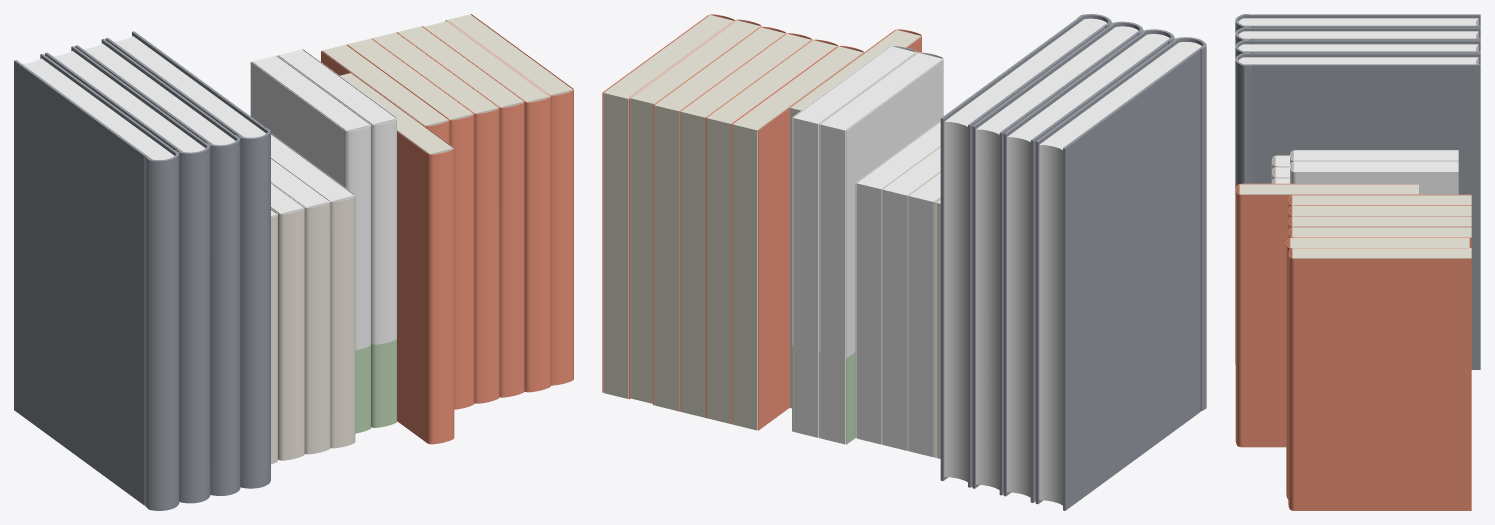
Rendered from 143_本の塊立てたタイプ.glb.
The picture shows the model from 3 angles, left to right: view 1: azimuth 30°, elevation 25°; view 2: azimuth 150°, elevation 25°; view 3: azimuth 270°, elevation 25°; orthographic projection. The views are drawn at different scales.
Parts seen in each view (by area): view 1: 137_本(閉)(ハードカバーサイズ)1, 141_本(閉)(漫画サイズ), 137_本(閉)(ハードカバーサイズ)2, 137_本(閉)(ハードカバーサイズ)4, 137_本(閉)(ハードカバーサイズ)3, 139_本(閉)(新書サイズ)1, 141_本(閉)(漫画サイズ)5, 139_本(閉)(新書サイズ)2, 141_本(閉)(漫画サイズ)3, 141_本(閉)(漫画サイズ)4, 141_本(閉)(漫画サイズ)6, 141_本(閉)(漫画サイズ)2 (+5 smaller); view 2: 137_本(閉)(ハードカバーサイズ)1, 141_本(閉)(漫画サイズ)1, 139_本(閉)(新書サイズ)1, 137_本(閉)(ハードカバーサイズ)2, 137_本(閉)(ハードカバーサイズ)4, 137_本(閉)(ハードカバーサイズ)3, 141_本(閉)(漫画サイズ)6, 139_本(閉)(新書サイズ)2, 141_本(閉)(漫画サイズ)3, 141_本(閉)(漫画サイズ)4, 141_本(閉)(漫画サイズ)2, 141_本(閉)(漫画サイズ)5 (+5 smaller); view 3: 141_本(閉)(漫画サイズ)6, 137_本(閉)(ハードカバーサイズ)4, 141_本(閉)(漫画サイズ), 139_本(閉)(新書サイズ)2, 137_本(閉)(ハードカバーサイズ)1, 137_本(閉)(ハードカバーサイズ)3, 137_本(閉)(ハードカバーサイズ)2, 141_本(閉)(漫画サイズ)5, 141_本(閉)(漫画サイズ)4, 141_本(閉)(漫画サイズ)1, 141_本(閉)(漫画サイズ)3, 141_本(閉)(漫画サイズ)2 (+1 smaller).
Boxes of the visible parts, bbox=[...] form: 137_本(閉)(ハードカバーサイズ)1: bbox=[14, 53, 179, 510]; 141_本(閉)(漫画サイズ): bbox=[340, 73, 454, 444]; 137_本(閉)(ハードカバーサイズ)2: bbox=[45, 46, 210, 503]; 137_本(閉)(ハードカバーサイズ)4: bbox=[105, 31, 270, 488]; 137_本(閉)(ハードカバーサイズ)3: bbox=[75, 38, 240, 495]; 139_本(閉)(新書サイズ)1: bbox=[250, 55, 370, 433]; 141_本(閉)(漫画サイズ)5: bbox=[422, 20, 550, 392]; 139_本(閉)(新書サイズ)2: bbox=[277, 49, 396, 427]; 141_本(閉)(漫画サイズ)3: bbox=[371, 32, 499, 403]; 141_本(閉)(漫画サイズ)4: bbox=[396, 26, 524, 397]; 141_本(閉)(漫画サイズ)6: bbox=[445, 14, 573, 385]; 141_本(閉)(漫画サイズ)2: bbox=[346, 38, 474, 409]; 137_本(閉)(ハードカバーサイズ)1: bbox=[1035, 37, 1206, 510]; 141_本(閉)(漫画サイズ)1: bbox=[731, 45, 864, 430]; 139_本(閉)(新書サイズ)1: bbox=[819, 52, 943, 444]; 137_本(閉)(ハードカバーサイズ)2: bbox=[1003, 29, 1174, 502]; 137_本(閉)(ハードカバーサイズ)4: bbox=[940, 14, 1111, 487]; 137_本(閉)(ハードカバーサイズ)3: bbox=[972, 21, 1143, 495]; 141_本(閉)(漫画サイズ)6: bbox=[602, 14, 735, 399]; 139_本(閉)(新書サイズ)2: bbox=[792, 45, 916, 437]; 141_本(閉)(漫画サイズ)3: bbox=[679, 33, 812, 417]; 141_本(閉)(漫画サイズ)4: bbox=[653, 26, 786, 411]; 141_本(閉)(漫画サイズ)2: bbox=[705, 39, 838, 424]; 141_本(閉)(漫画サイズ)5: bbox=[629, 19, 761, 403]; 141_本(閉)(漫画サイズ)6: bbox=[1288, 247, 1471, 510]; 137_本(閉)(ハードカバーサイズ)4: bbox=[1235, 53, 1480, 369]; 141_本(閉)(漫画サイズ): bbox=[1235, 183, 1418, 447]; 139_本(閉)(新書サイズ)2: bbox=[1290, 161, 1458, 194]; 137_本(閉)(ハードカバーサイズ)1: bbox=[1235, 14, 1480, 32]; 137_本(閉)(ハードカバーサイズ)3: bbox=[1235, 40, 1480, 57]; 137_本(閉)(ハードカバーサイズ)2: bbox=[1235, 27, 1480, 44]; 141_本(閉)(漫画サイズ)5: bbox=[1286, 237, 1469, 499]; 141_本(閉)(漫画サイズ)4: bbox=[1288, 226, 1471, 247]; 141_本(閉)(漫画サイズ)1: bbox=[1288, 194, 1471, 210]; 141_本(閉)(漫画サイズ)3: bbox=[1288, 216, 1471, 231]; 141_本(閉)(漫画サイズ)2: bbox=[1288, 205, 1471, 221].
Bounding box in the file's own units: 0.2848 × 0.21 × 0.1533.
